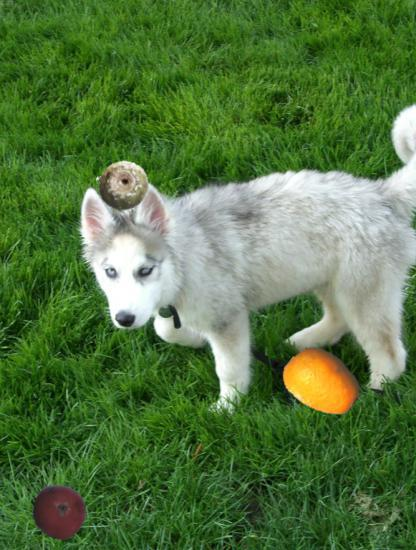Cactus: (96, 159, 149, 212)
Kumquats: (283, 344, 360, 421)
Pomegranate: (32, 485, 87, 540)
